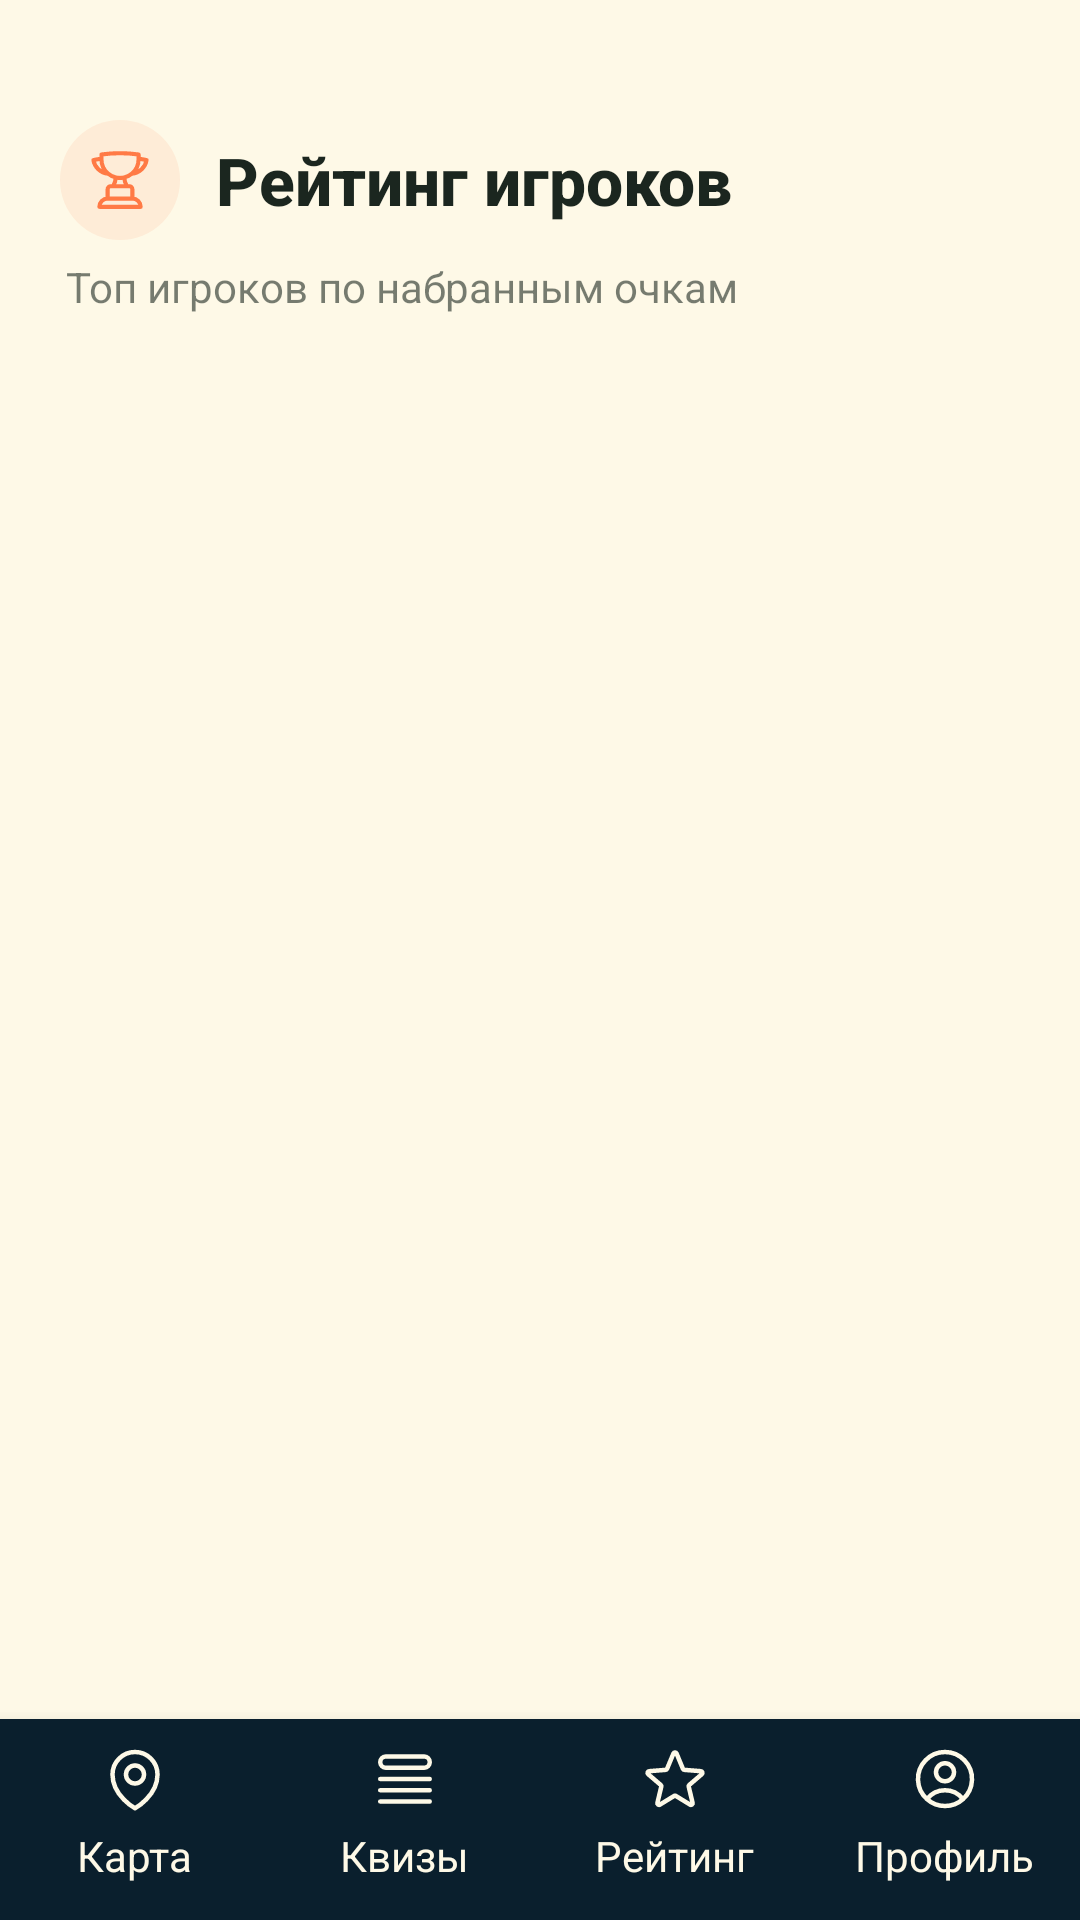

Icons on this 1080*1920 Android screen, each with the point to tap as point (x, y):
trophy: point (120, 180)
